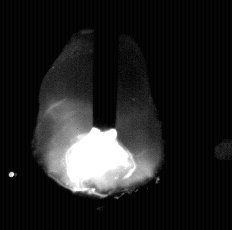arame: (92, 0, 118, 132)
poca: (34, 0, 162, 230)
